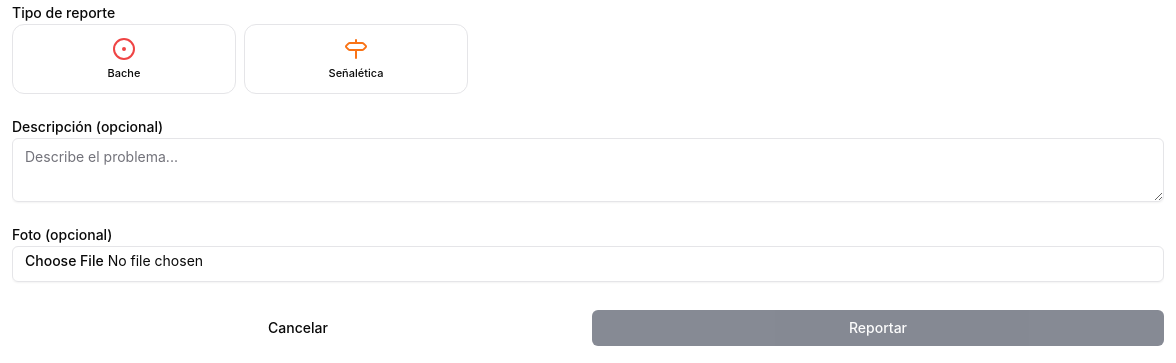
ReportForm › shows uploading state while submitting
Click the button "Bache" at point(124, 59), box [12,24,236,94]
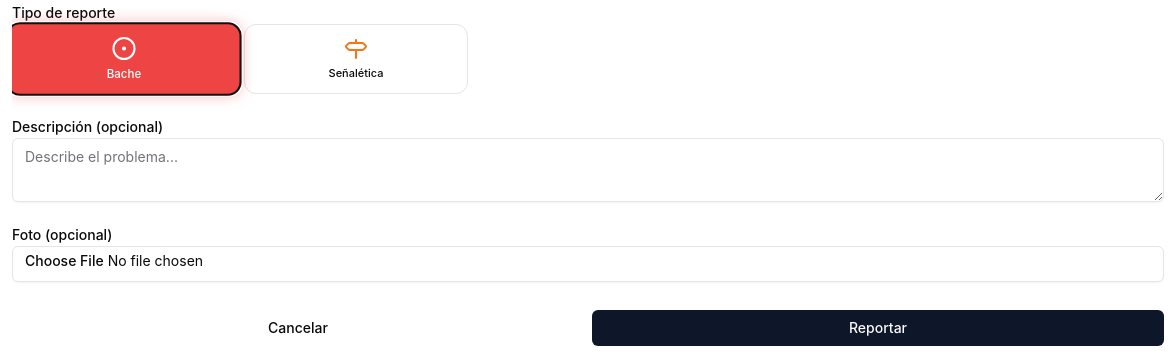
Click the button "Reportar" at point(878, 328), box [592,310,1164,346]
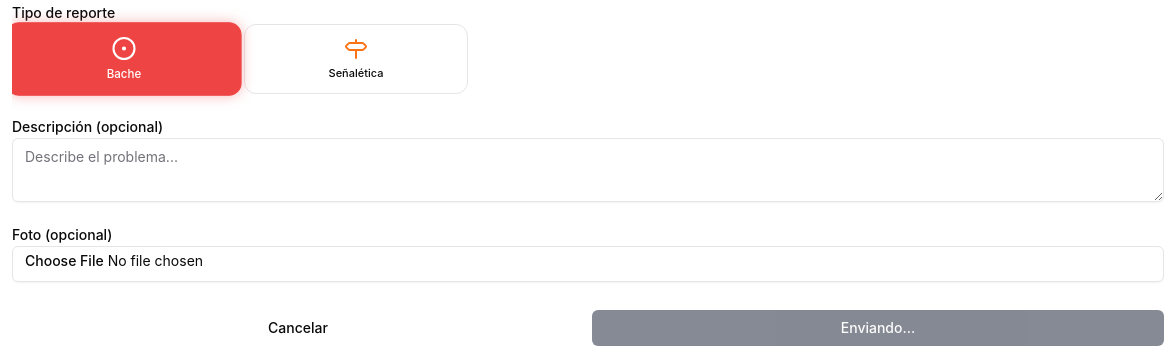
Now the button "Enviando..." is shown, box [592,310,1164,346]
